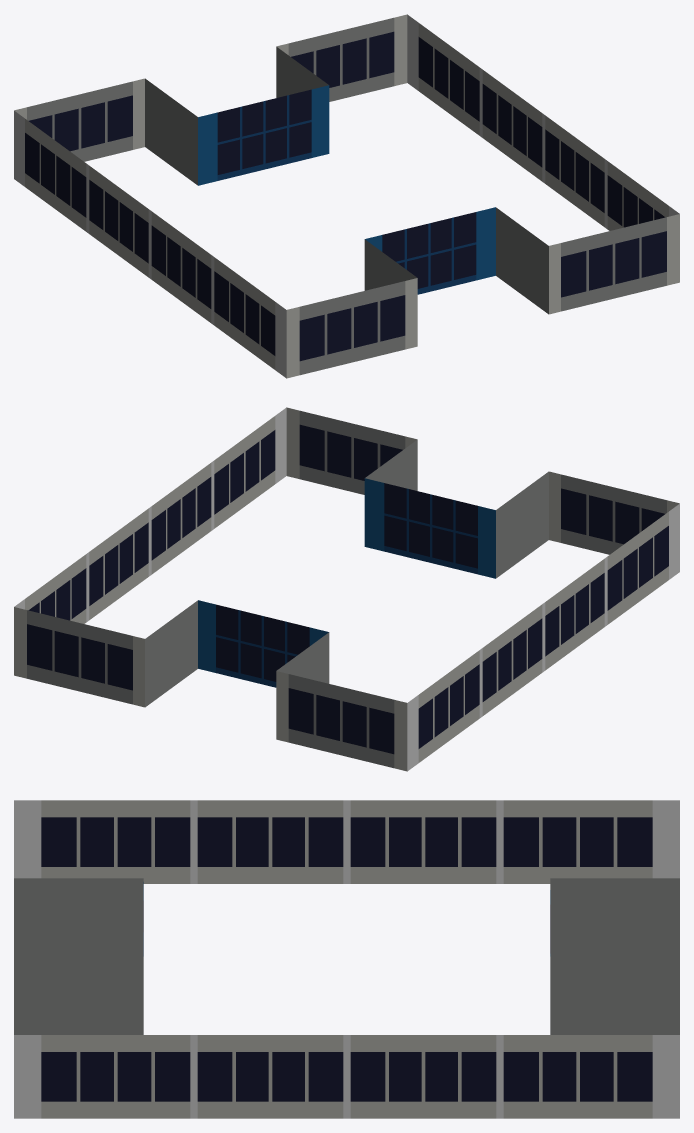
File: TB_CITY_Skysc_T_BodyB_Blue.FBX
3 renders of one model, top to bottom at view 1: azimuth 30°, elevation 25°; view 2: azimuth 150°, elevation 25°; view 3: azimuth 270°, elevation 25°, orthographic. The views are drawn at different scales.
Parts seen in each view (by area): view 1: TB_CITY_Skysc_T_BodyB_Blue; view 2: TB_CITY_Skysc_T_BodyB_Blue; view 3: TB_CITY_Skysc_T_BodyB_Blue.
Part boxes in pixels (bbox=[...]): TB_CITY_Skysc_T_BodyB_Blue: bbox=[14, 14, 679, 378]; TB_CITY_Skysc_T_BodyB_Blue: bbox=[14, 407, 679, 771]; TB_CITY_Skysc_T_BodyB_Blue: bbox=[14, 800, 679, 1118].
Size of the model in its own units: 30 by 5 by 36.
